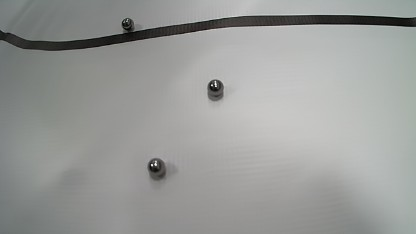ironball: (147, 157, 165, 177), (207, 79, 224, 97), (121, 17, 134, 31)
